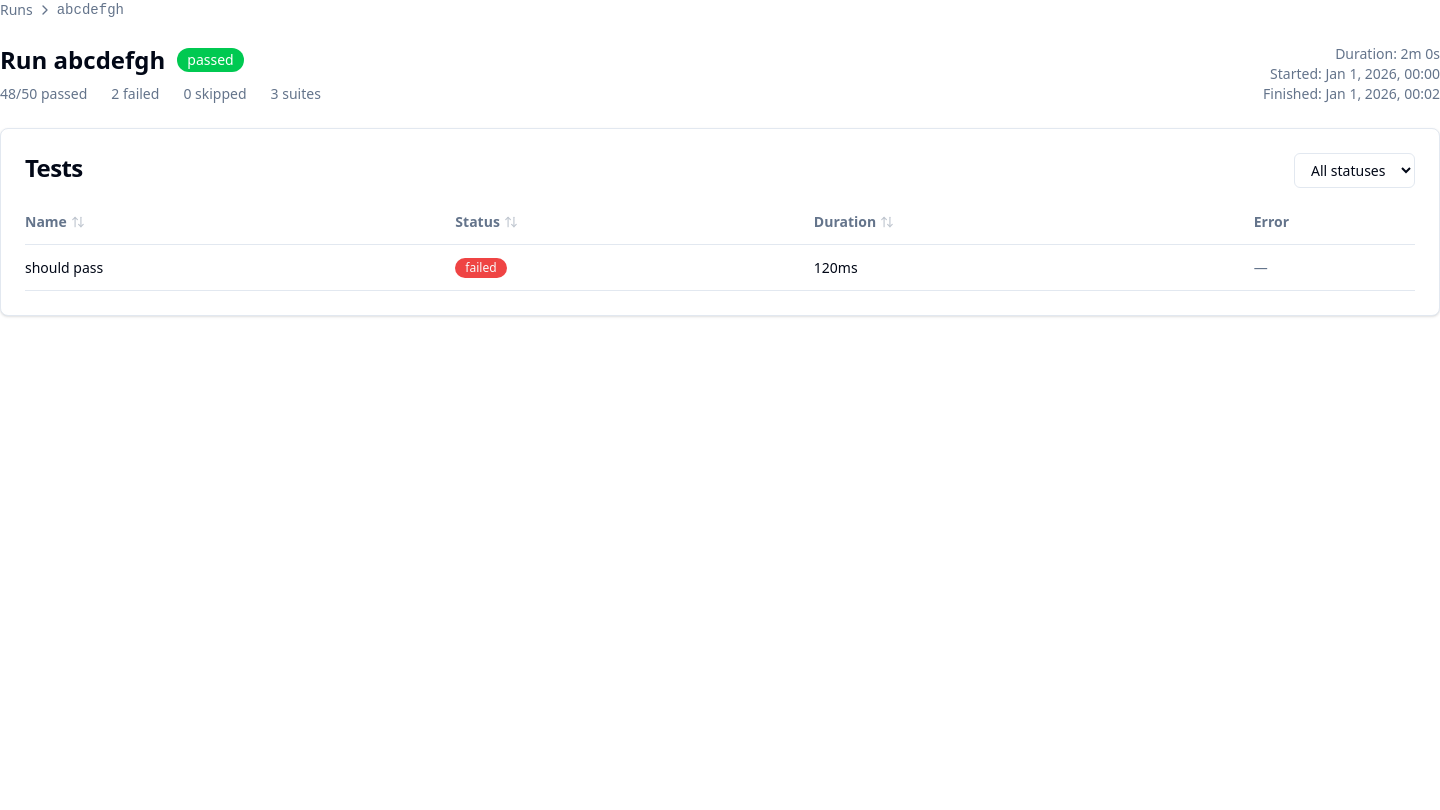
Test case: RunDetailPage › test detail drawer › hides stack trace toggle when stackTrace is null
Click the text "should pass": (64, 267) [25,244,455,290]
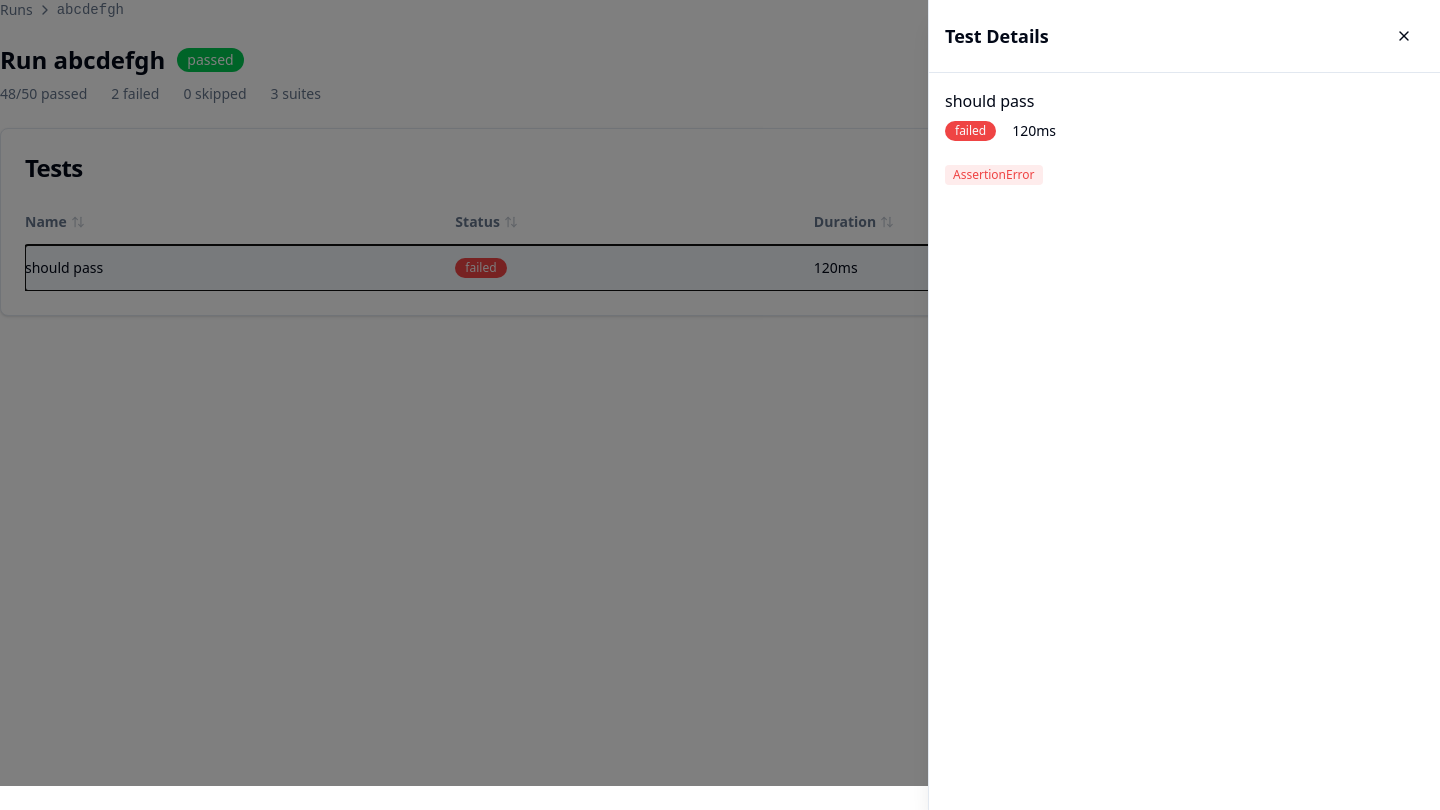
Now the text "AssertionError" is shown, box [945,165,1043,185]
